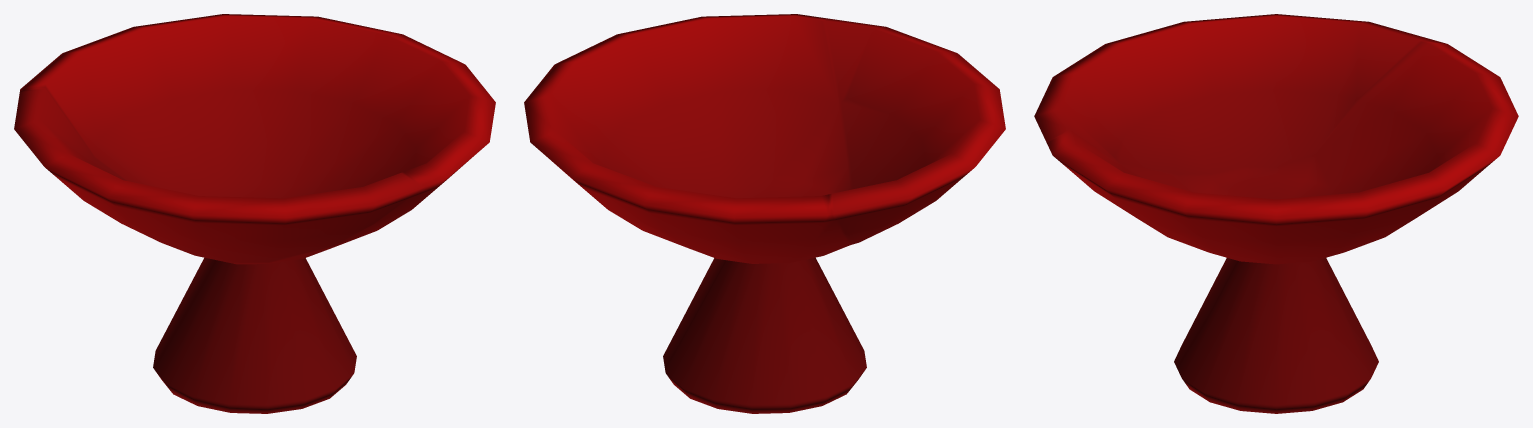
File: CeramicPot001.glb
3 renders of one model, left to right at view 1: azimuth 30°, elevation 25°; view 2: azimuth 150°, elevation 25°; view 3: azimuth 270°, elevation 25°, orthographic.
Parts seen in each view (by area): view 1: CeramicPot001; view 2: CeramicPot001; view 3: CeramicPot001.
Part boxes in pixels (<box>): CeramicPot001: <box>14,14,495,413</box>; CeramicPot001: <box>524,14,1005,413</box>; CeramicPot001: <box>1034,14,1518,413</box>.
Bounding box in the file's own units: 4.24 × 2.57 × 4.24.
